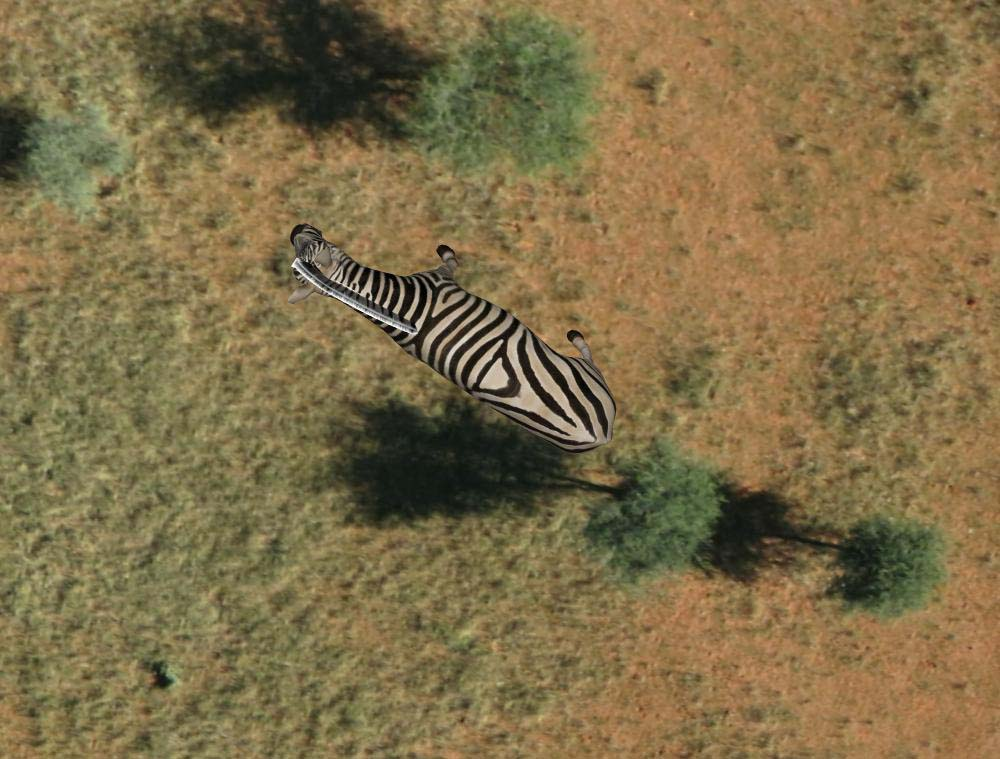zebra: (280, 212, 621, 454)
